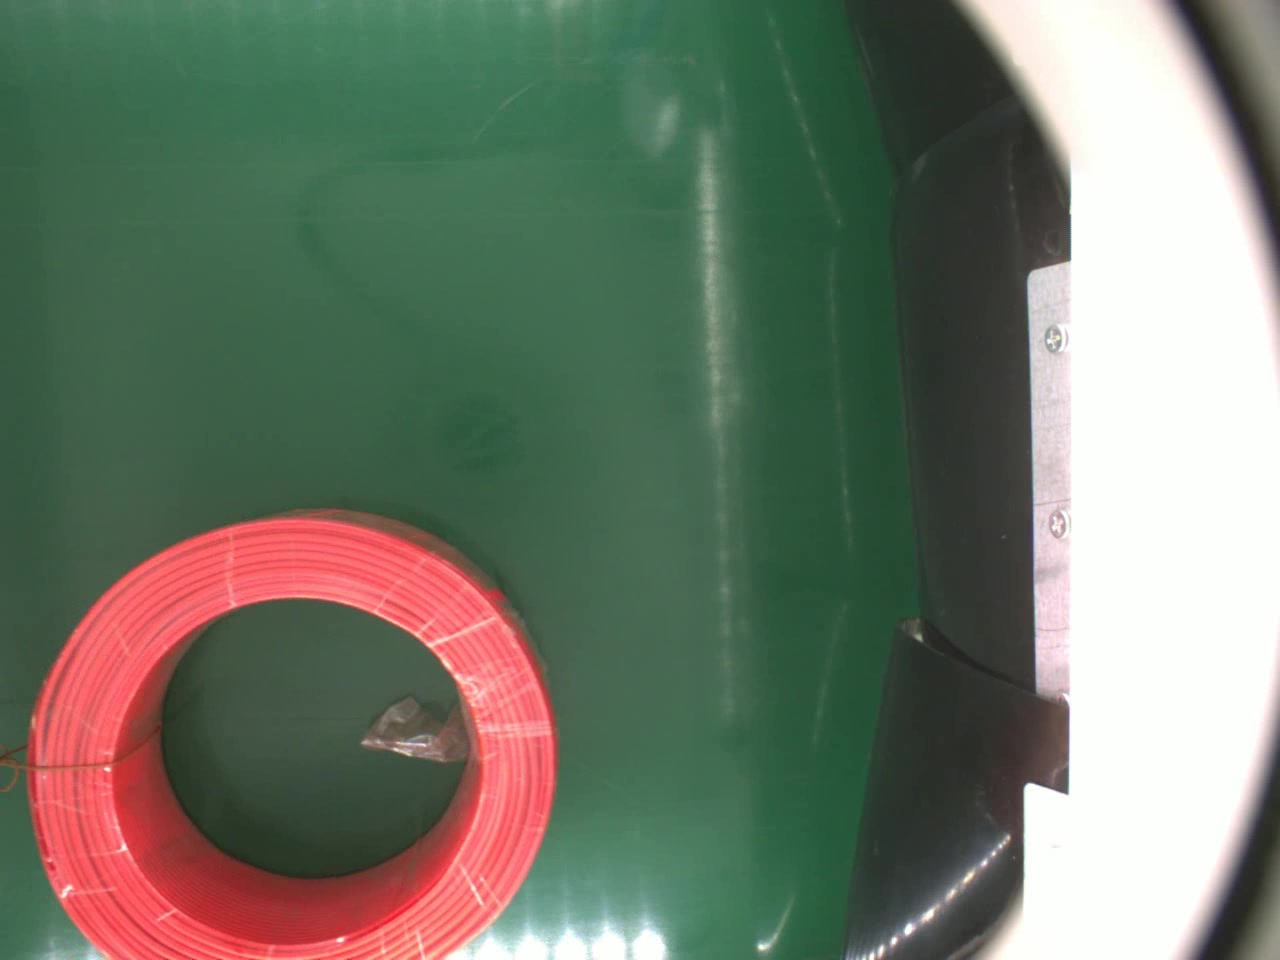red: (21, 504, 554, 960)
